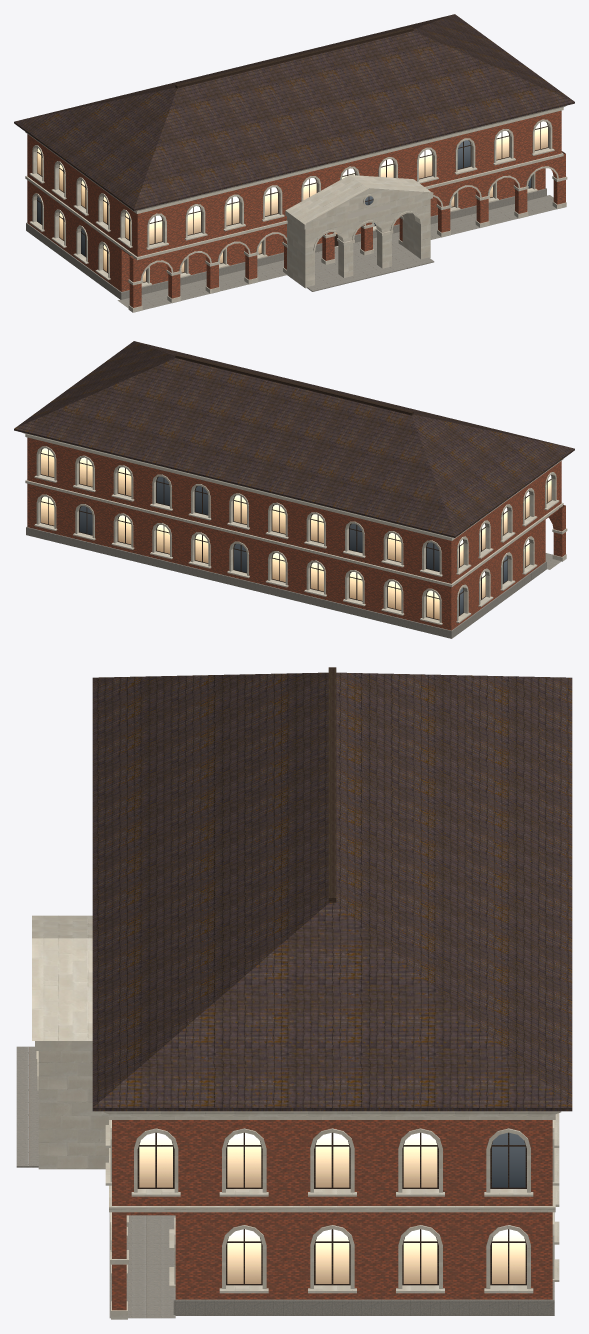
File: campus_arts.glb
3 renders of one model, top to bottom at view 1: azimuth 30°, elevation 25°; view 2: azimuth 150°, elevation 25°; view 3: azimuth 270°, elevation 25°, orthographic. The views are drawn at different scales.
Visible parts, largest first — view 1: wz_vc_art, seethru_ck_tiles, art_glass; view 2: wz_vc_art, art_glass, seethru_ck_tiles; view 3: wz_vc_art, art_glass, seethru_ck_tiles.
Part boxes in pixels (x1,y1,x2,y2): wz_vc_art: [14, 14, 574, 312]; seethru_ck_tiles: [128, 151, 567, 312]; art_glass: [37, 121, 547, 281]; wz_vc_art: [14, 341, 574, 638]; art_glass: [41, 448, 551, 619]; seethru_ck_tiles: [552, 505, 567, 561]; wz_vc_art: [16, 667, 572, 1318]; art_glass: [139, 1133, 525, 1283]; seethru_ck_tiles: [36, 1051, 128, 1319].
Bounding box in the file's own units: 41.6 × 14.67 × 22.7.
Materials: 4 (2 with a texture image).
